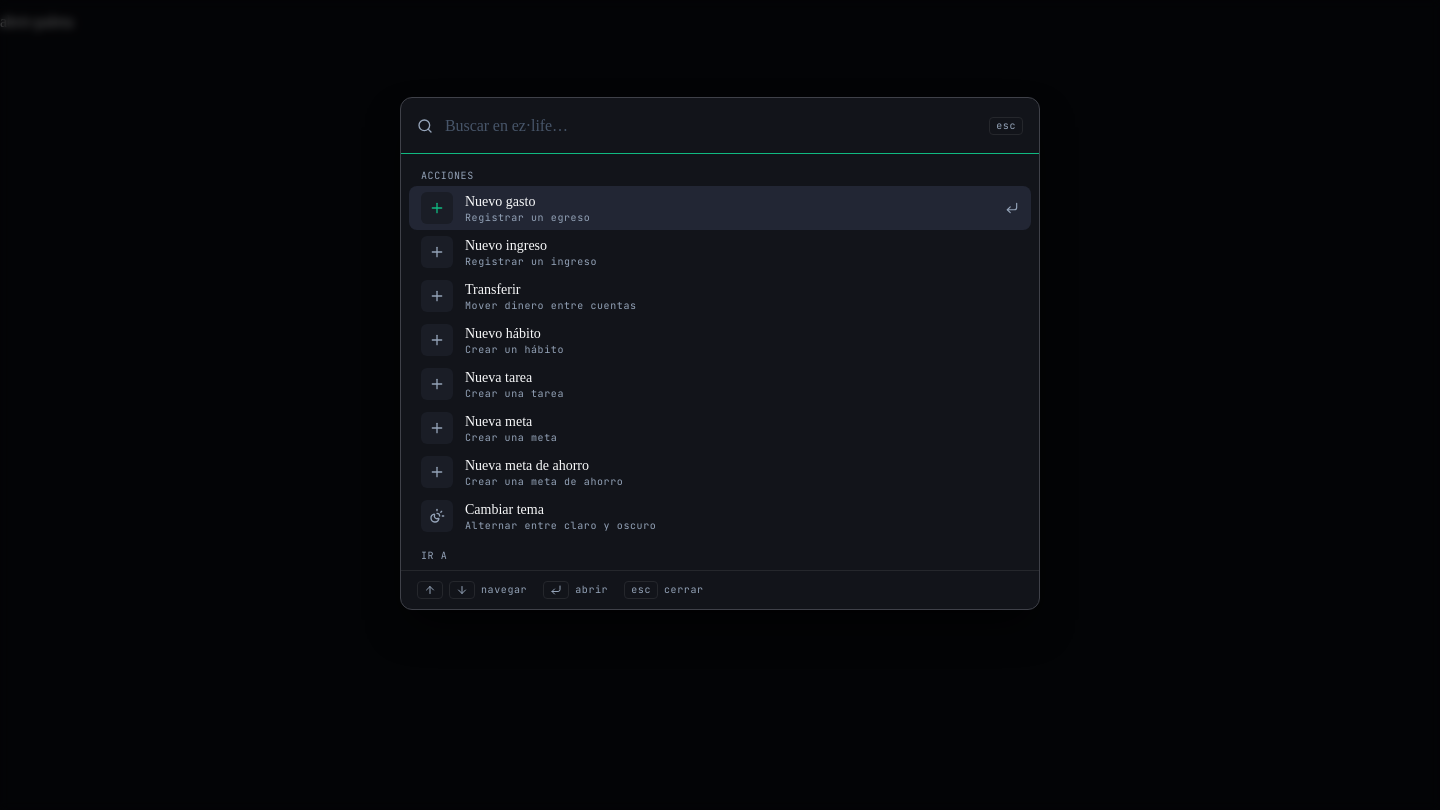
Test: CommandPalette › shows an empty state with the query when nothing matches
Check: the dialog is shown, box [400,97,1040,610]
Type "zzzz" into the dropdown named "Buscar en ez-life" at x=711, y=126, box [445,98,977,153]
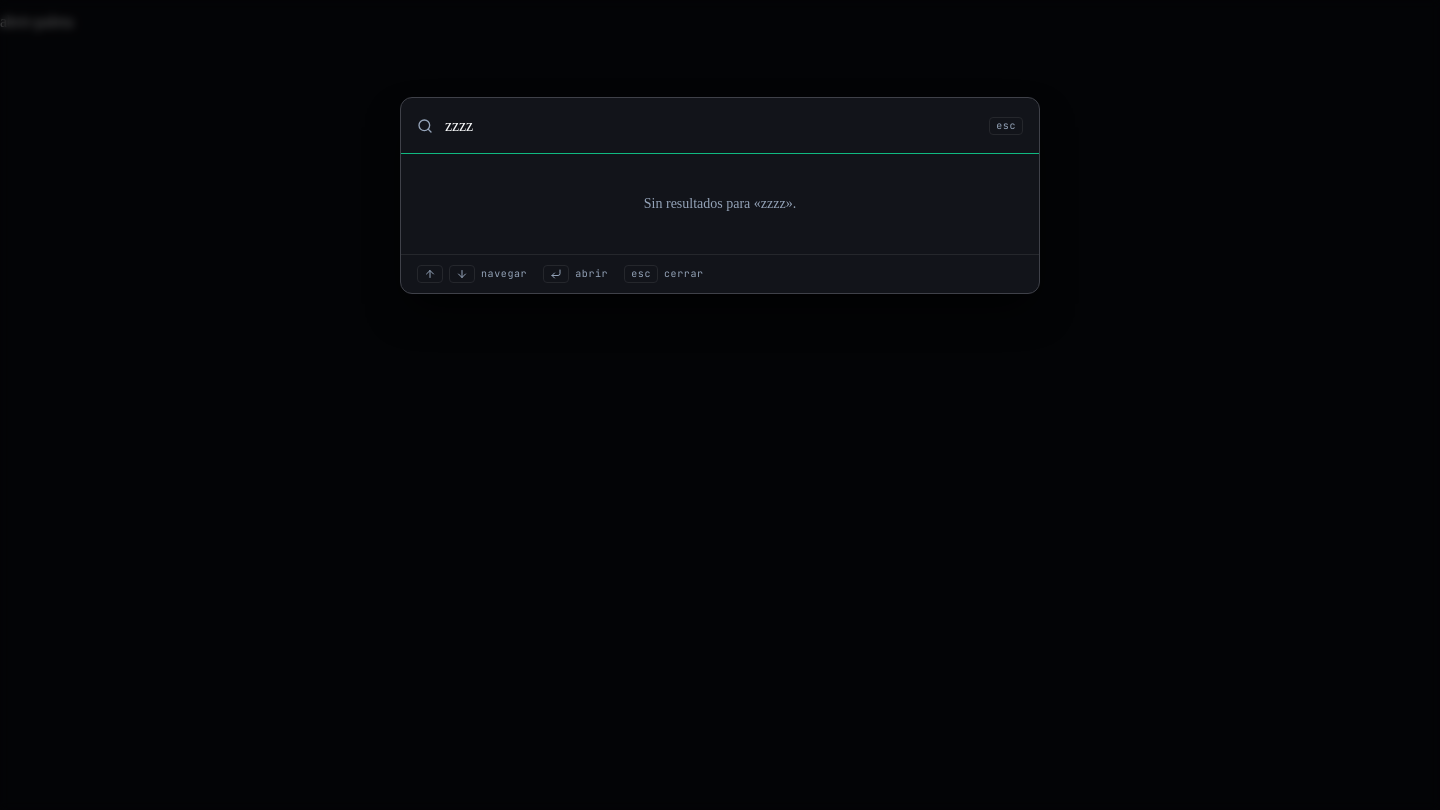
Check: the text "Sin resultados para «zzzz»." is shown, box [644,196,796,211]
Check: no options are shown
